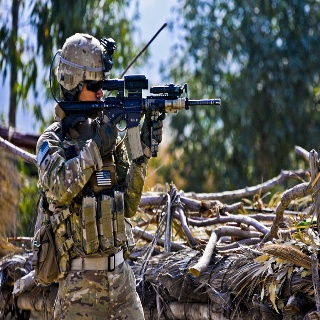rifle: (58, 73, 221, 159)
